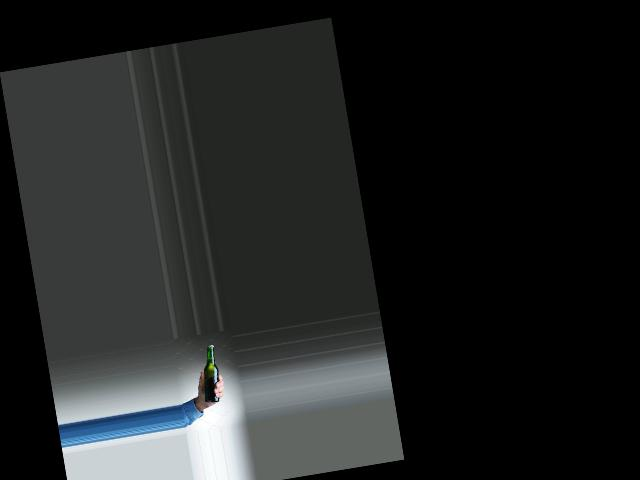beer: (195, 344, 223, 404)
